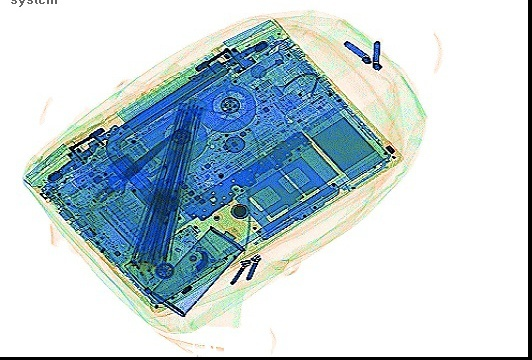scissors: (75, 126, 181, 224)
zippooil: (147, 224, 246, 317)
